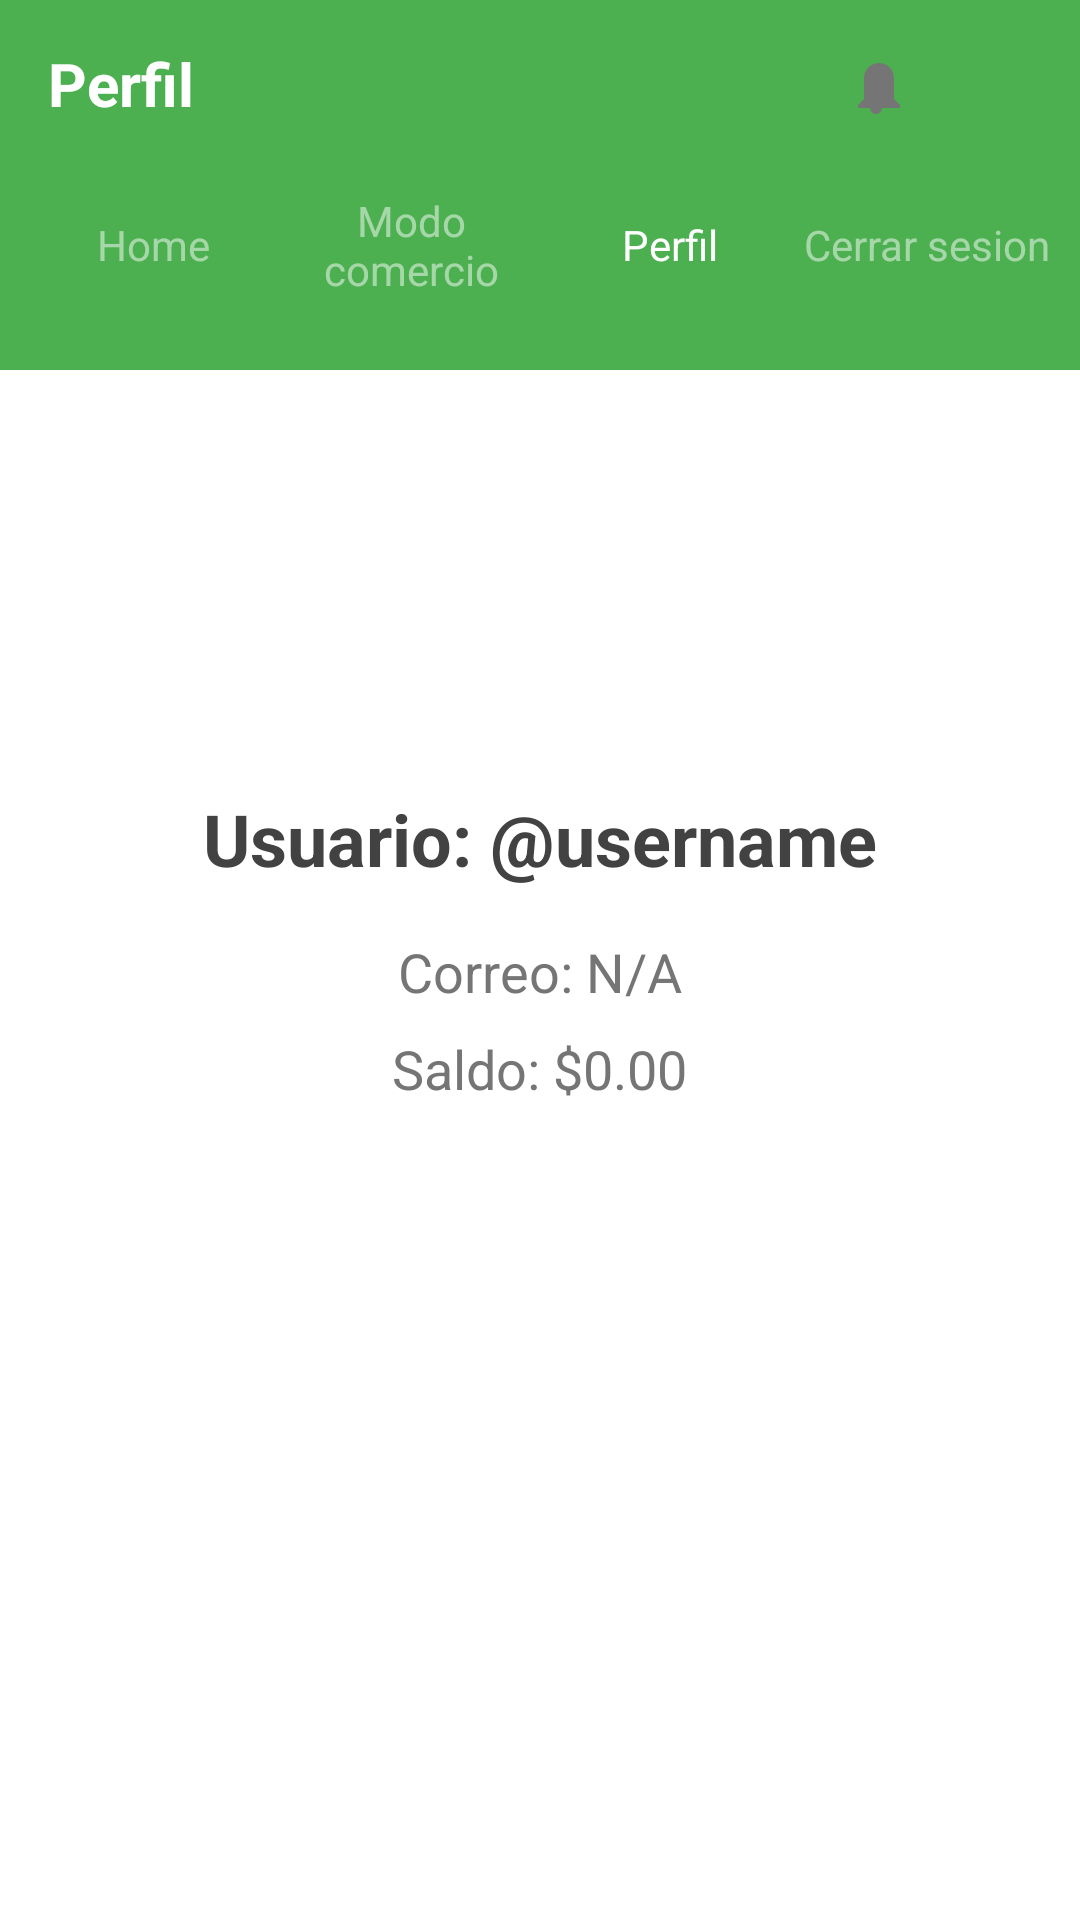

Locate icon controls on the screen. Image size 1080w x 1920h, boxes as [x1=x1, y1=y1, x2=x2, y2=y2].
Notificaciones: [x1=858, y1=63, x2=900, y2=114]
